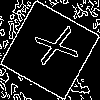X: (25, 25, 79, 70)
